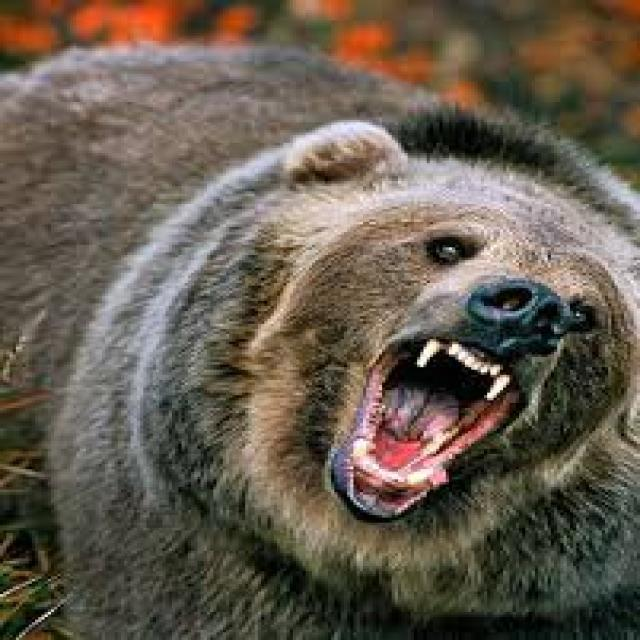bear: (0, 12, 640, 632)
